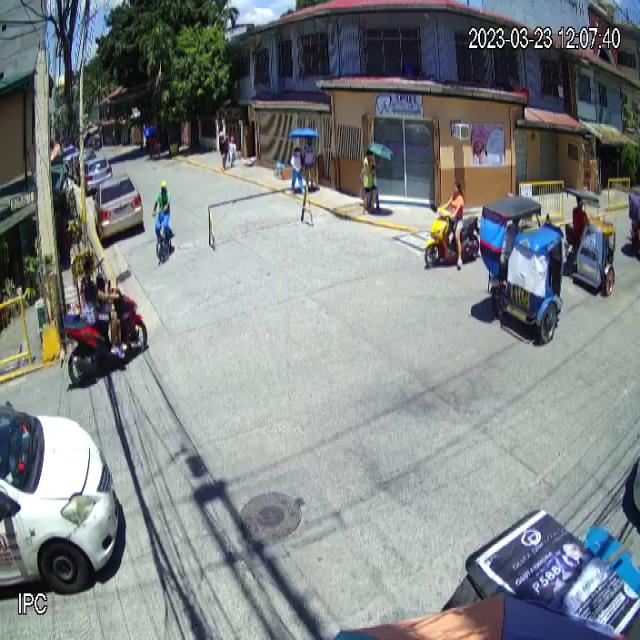Tricycle: (478, 195, 564, 344), (563, 187, 616, 298)
